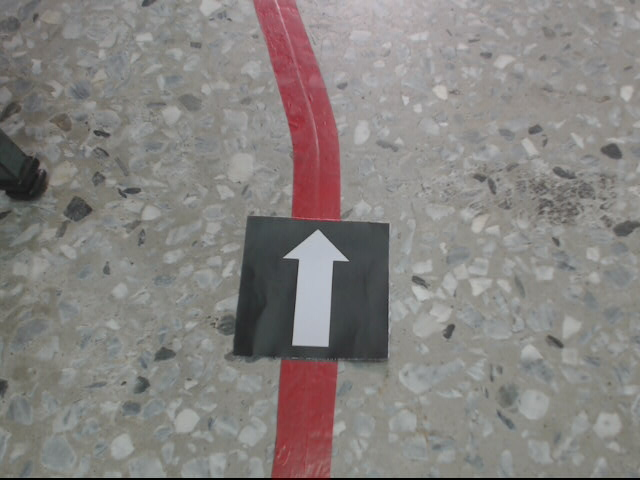straight: (232, 216, 391, 360)
